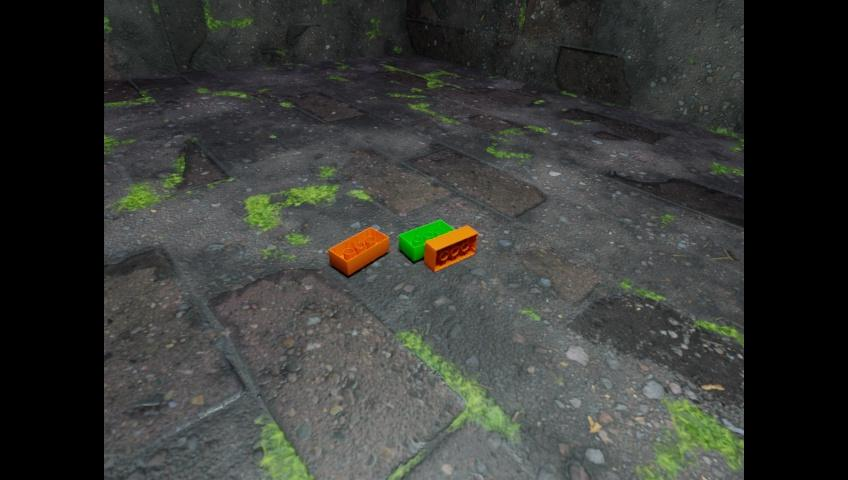4x2_green: (398, 219, 454, 260)
4x2_orange: (328, 226, 388, 274), (424, 225, 477, 271)
